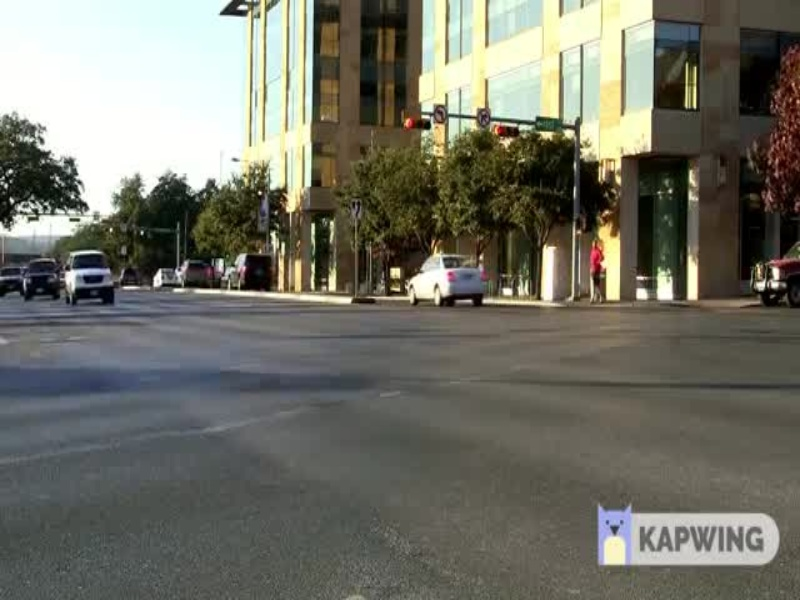car: (398, 251, 494, 311), (59, 246, 125, 313)
